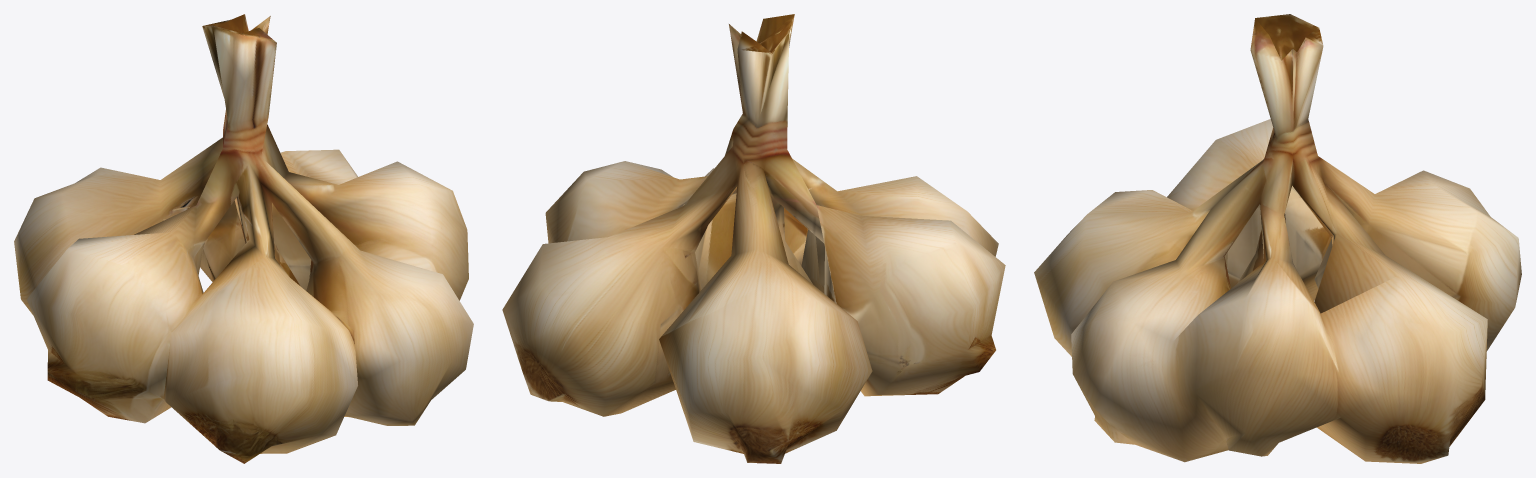
The model's file is Garlic .glb.
The picture shows the model from 3 angles, left to right: view 1: azimuth 30°, elevation 25°; view 2: azimuth 150°, elevation 25°; view 3: azimuth 270°, elevation 25°; orthographic projection.
Size of the model in its own units: 1.89 by 1.62 by 1.85.
1 material, 1 textured.
